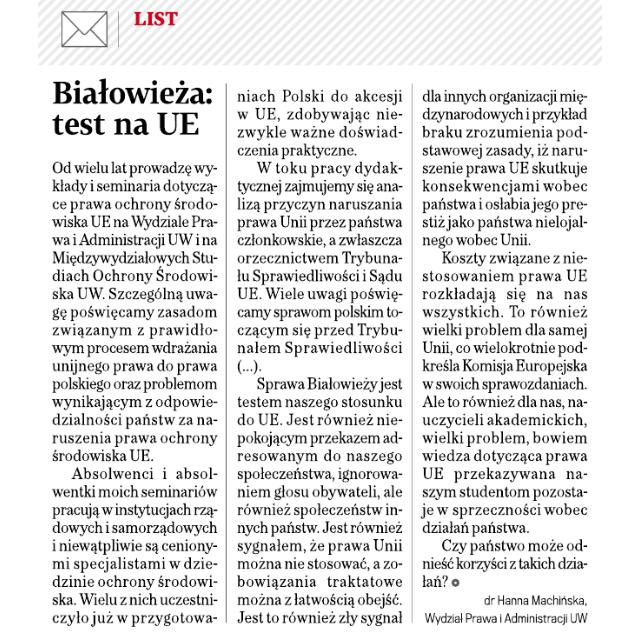body: (233, 85, 409, 632), (419, 82, 595, 592), (46, 153, 224, 629)
lead: (46, 74, 220, 144)
title: (126, 4, 197, 34)
